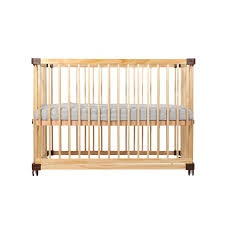crib: (31, 58, 195, 177)
